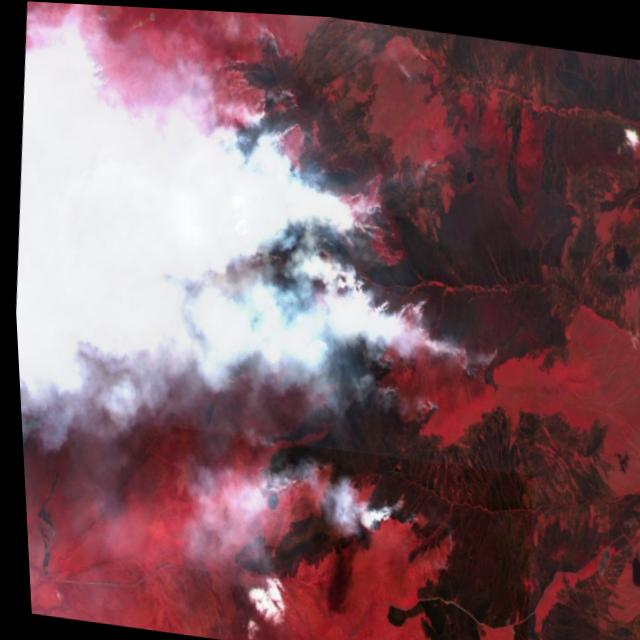fire: (128, 5, 529, 608), (0, 0, 165, 548)
